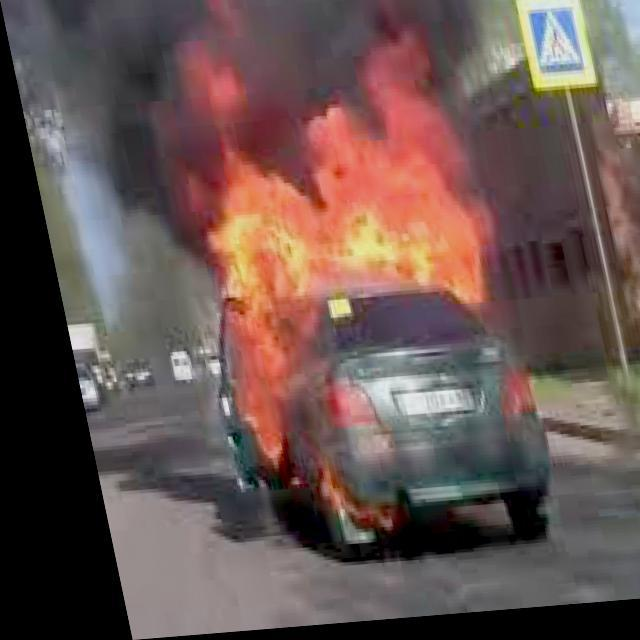Fire: (166, 62, 526, 504)
